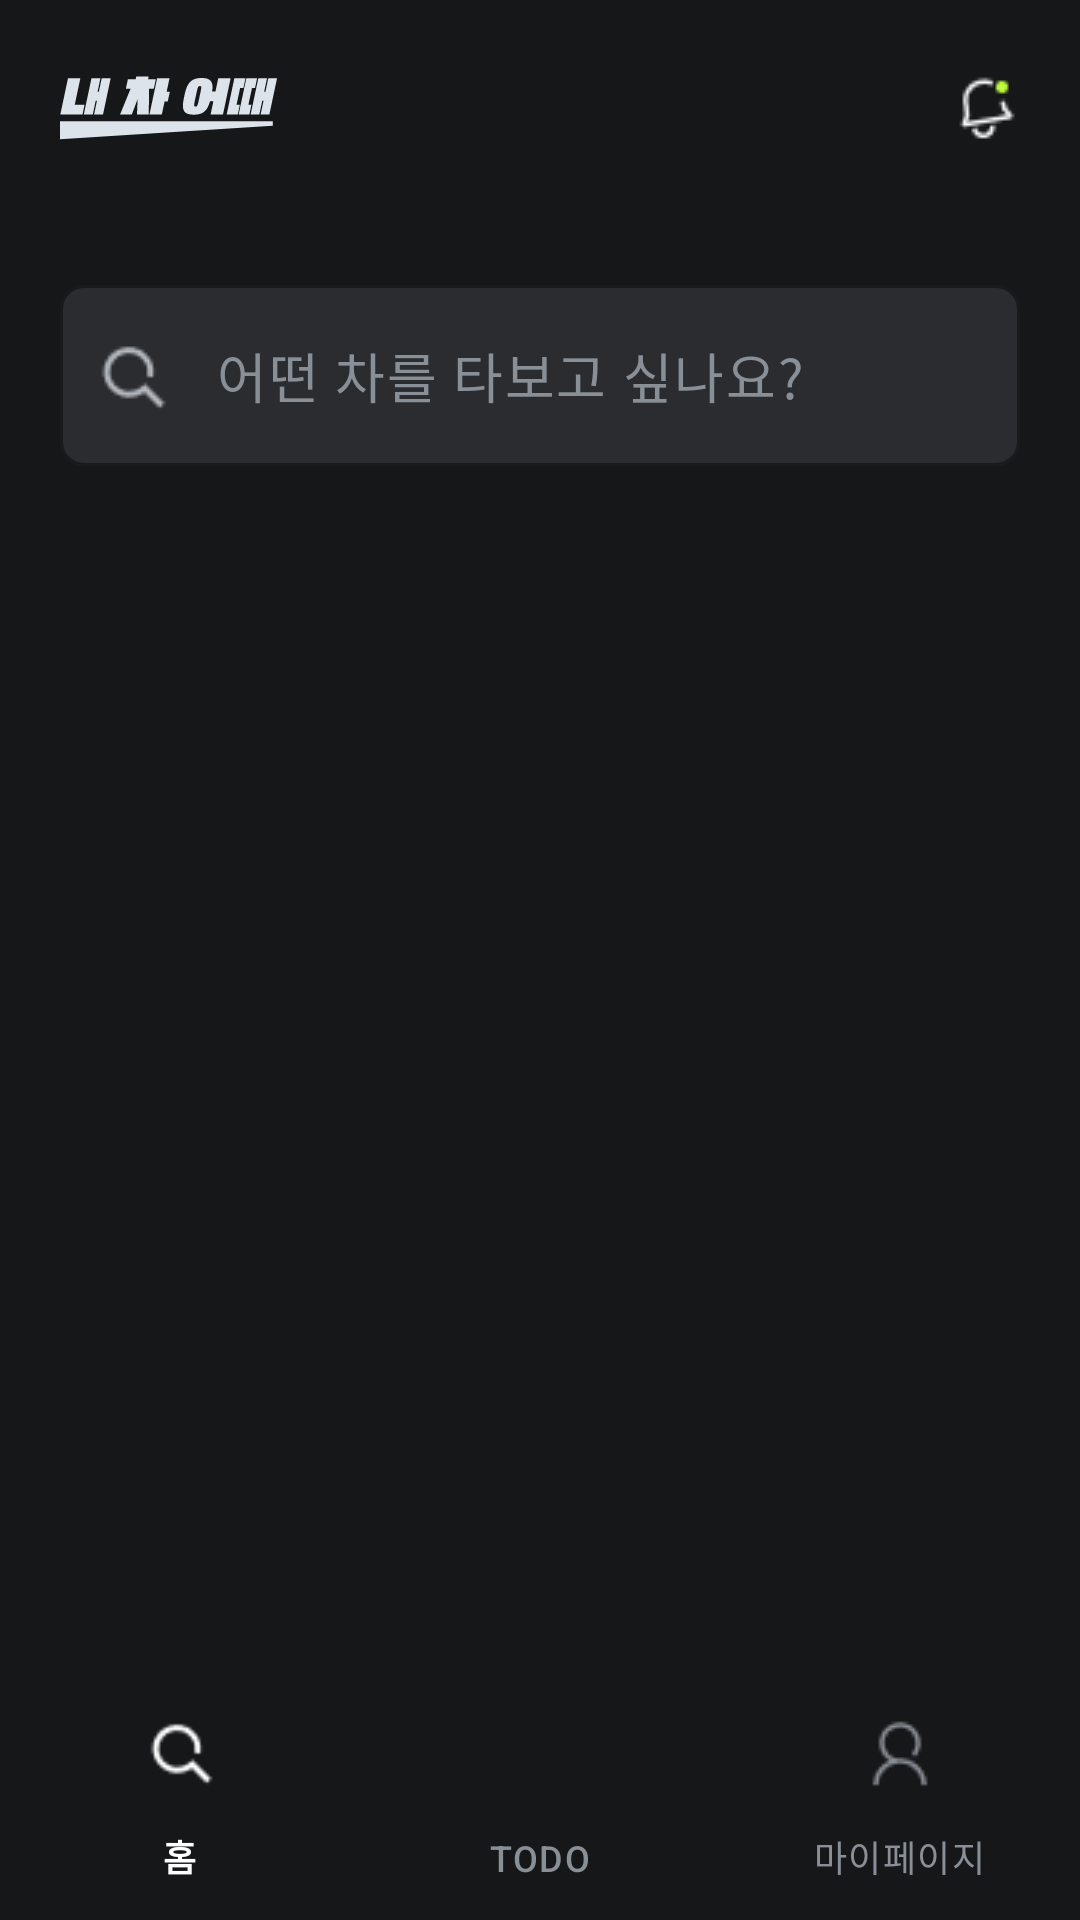

Point at icon controls on the screen. Image size 1080w x 1920h, points as (x,y).
alert: (987,108)
